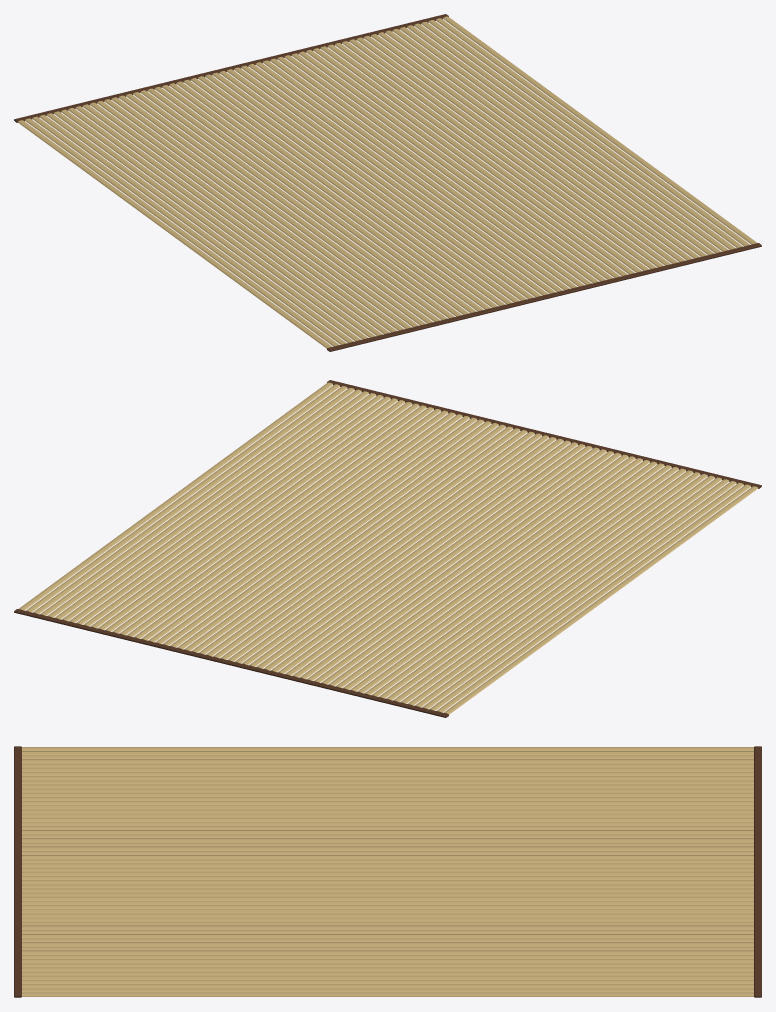
Rendered from ChieuTruc.glb.
The picture shows the model from 3 angles, top to bottom: view 1: azimuth 30°, elevation 25°; view 2: azimuth 150°, elevation 25°; view 3: azimuth 270°, elevation 25°; orthographic projection. The views are drawn at different scales.
Visible parts, largest first — view 1: geometry_0; view 2: geometry_0; view 3: geometry_0.
Part boxes in pixels (box(x1,y1,x2,y2)): geometry_0: box(14, 14, 761, 351); geometry_0: box(14, 380, 761, 717); geometry_0: box(14, 746, 761, 997).
Bounding box in the file's own units: 1.5 × 0.0077 × 1.9.
